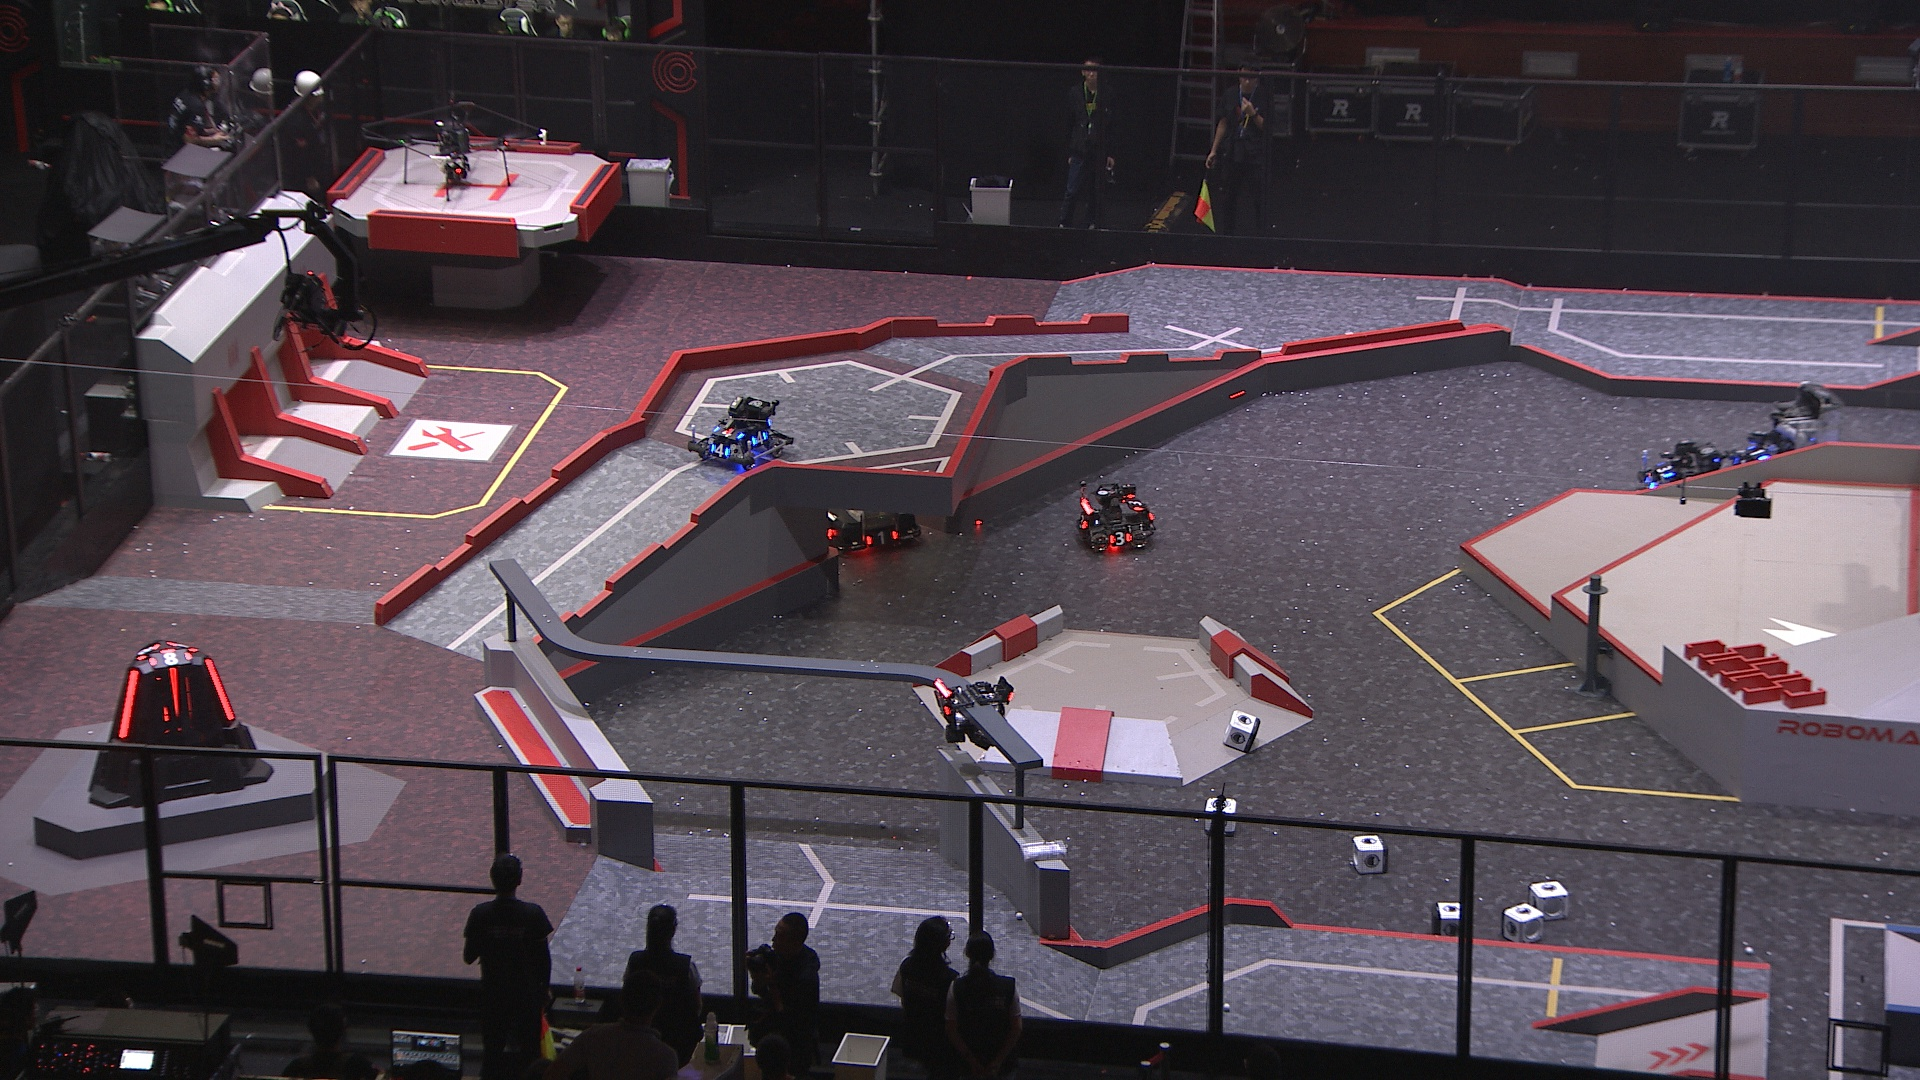armor: (196, 655, 237, 725), (112, 669, 141, 741), (144, 647, 191, 669), (164, 666, 183, 716), (860, 527, 899, 549), (932, 688, 953, 723), (1122, 491, 1149, 516), (1106, 527, 1133, 550), (164, 637, 196, 654), (707, 438, 731, 460), (131, 641, 157, 661), (1654, 460, 1676, 483), (746, 427, 770, 448), (713, 425, 745, 440), (1747, 442, 1768, 462), (1073, 510, 1091, 531)
base: (83, 633, 277, 814)
car: (1733, 381, 1855, 477), (814, 451, 923, 556), (684, 394, 795, 476), (1067, 477, 1159, 559), (1638, 436, 1722, 509)
watcher: (927, 671, 1015, 754)
